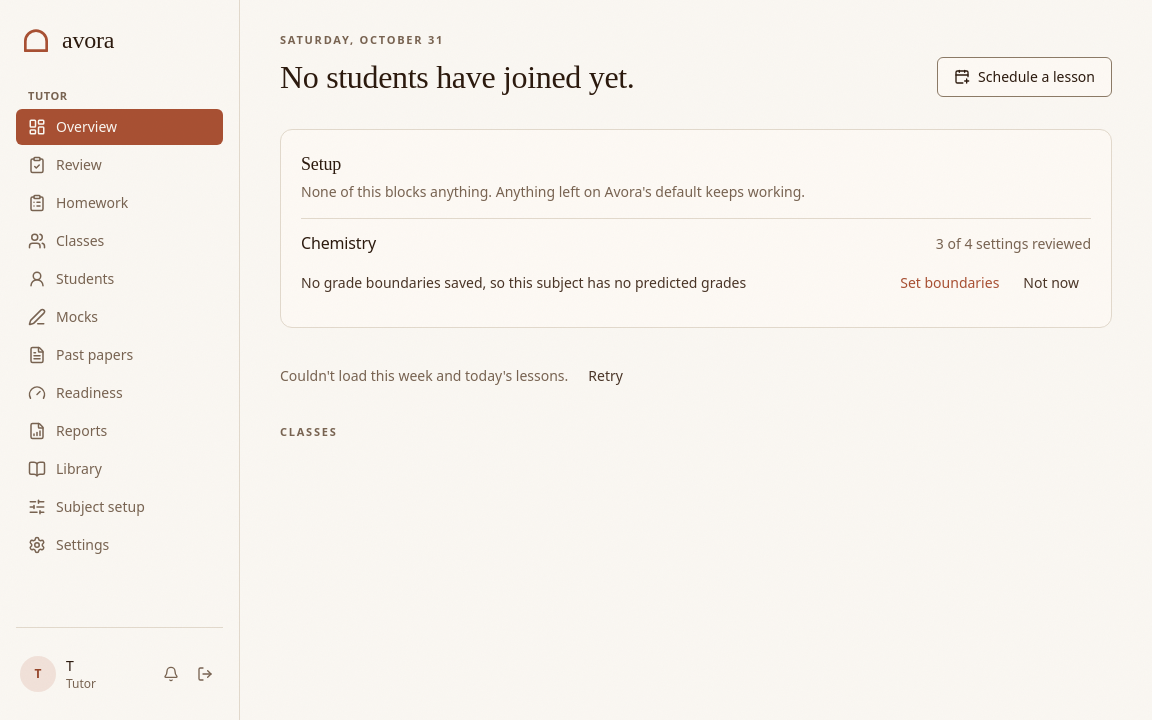
Scenario: hiding a checklist line removes it, saves it, and Show hidden brings it back
Click the button with aria-label "Not now: Set boundaries for Chemistry" at (1051, 282), box [1011, 266, 1091, 298]
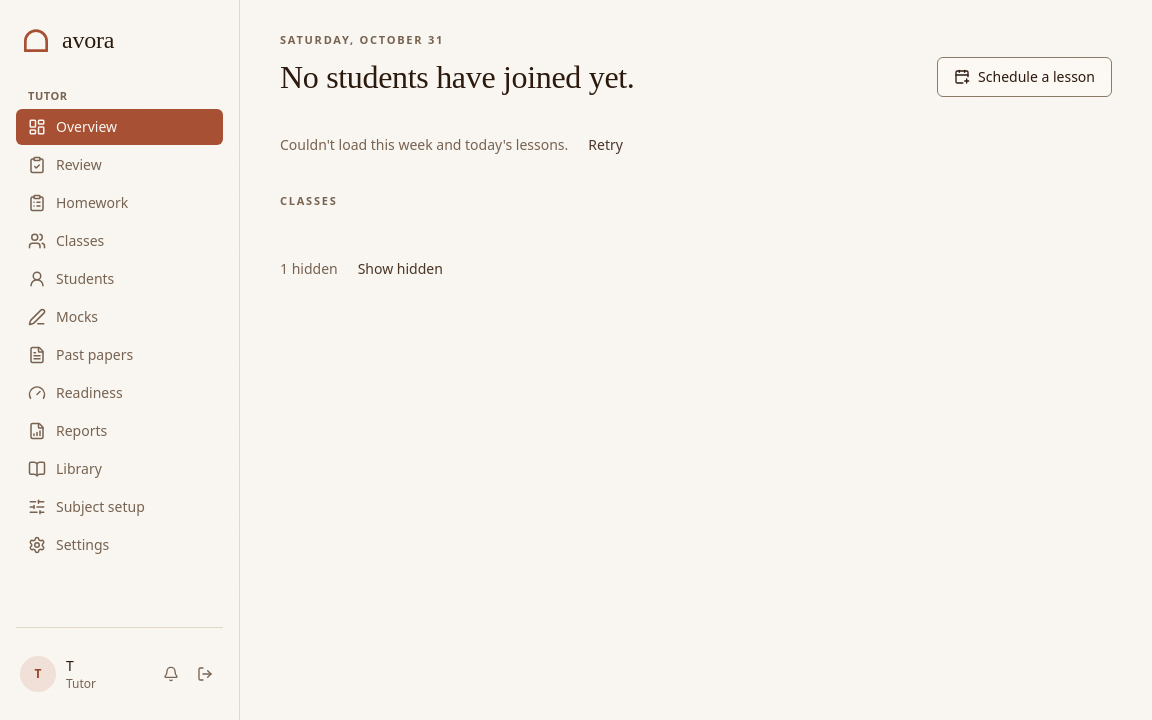
Expected: the text "1 hidden" is shown, [280, 253, 455, 285]
Click the button "Show hidden" at (400, 269), box [346, 253, 455, 285]
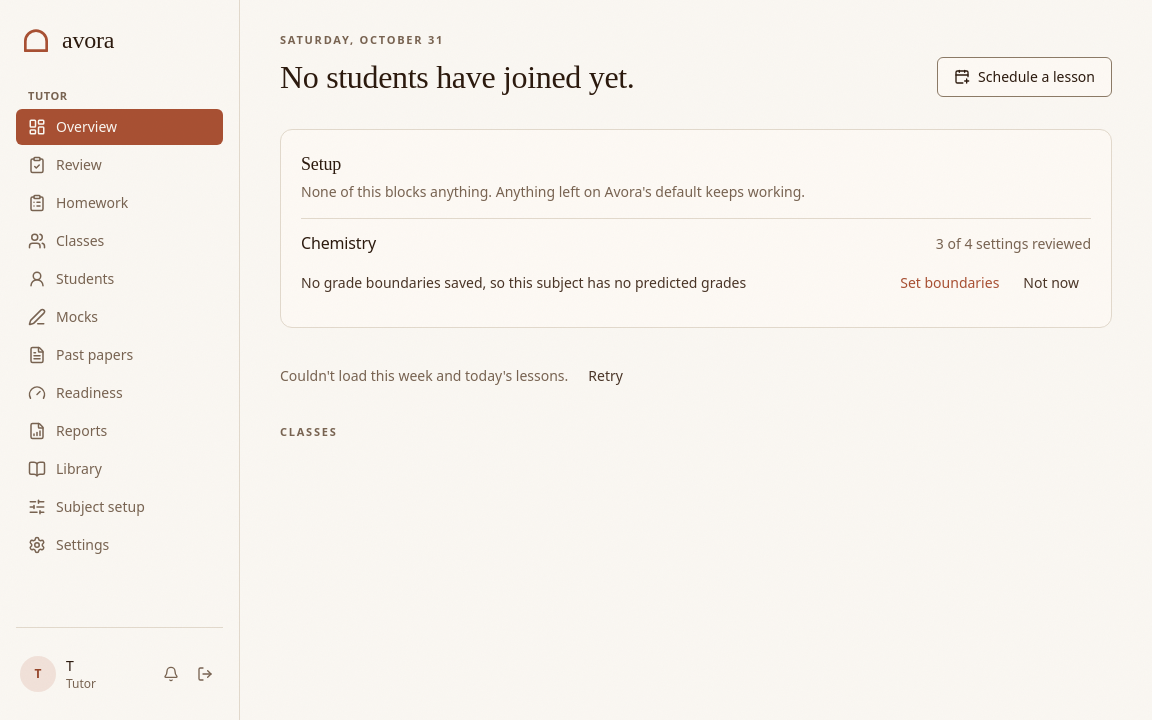
Expected: the link with aria-label "Set boundaries for Chemistry" is shown, [900, 270, 999, 294]
Expected: the button " hidden" is gone
